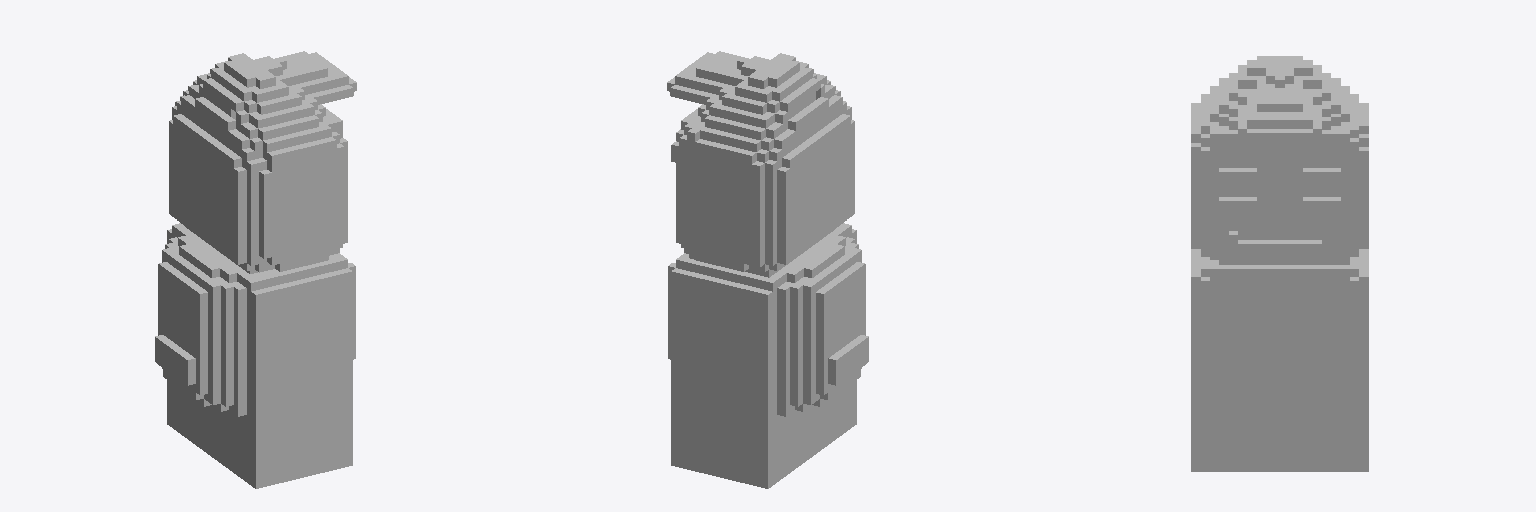
The model's file is Player.obj.
3 views of the same model, side by side, from view 1: azimuth 30°, elevation 25°; view 2: azimuth 150°, elevation 25°; view 3: azimuth 270°, elevation 25° (orthographic).
Parts seen in each view (by area): view 1: enfant; view 2: enfant; view 3: enfant.
Boxes of the visible parts, <box> form: enfant: <box>155,51,356,488</box>; enfant: <box>667,51,868,488</box>; enfant: <box>1191,56,1368,471</box>.
Bounding box in the file's own units: 21 × 45 × 19.